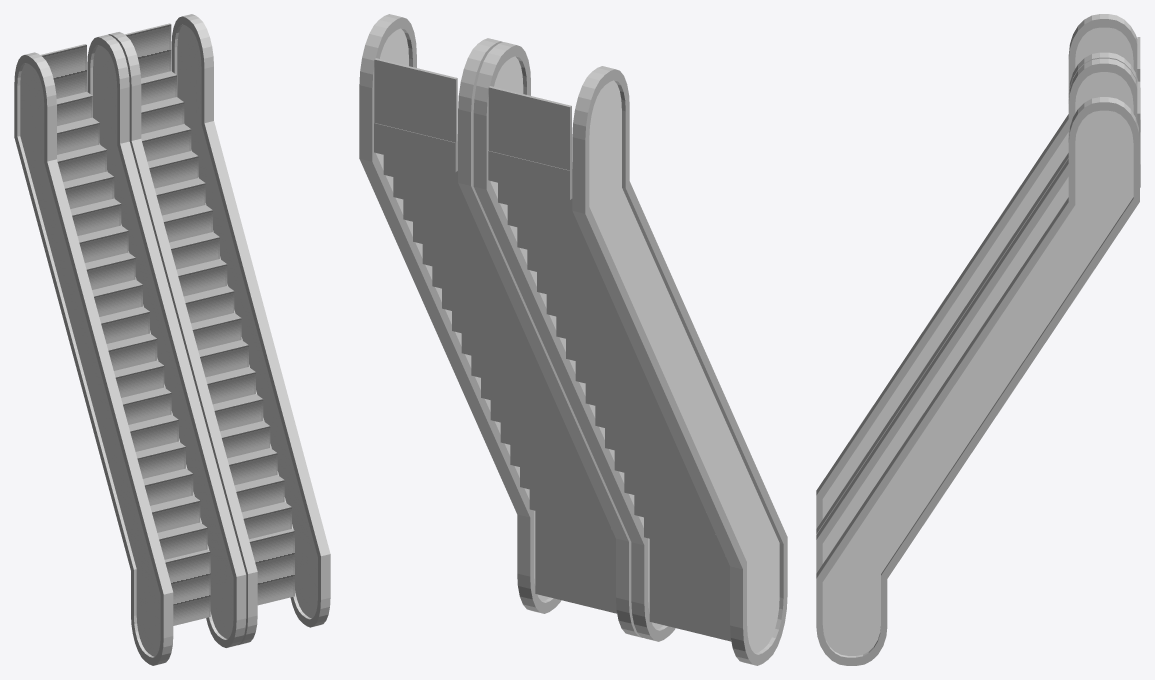
3 views of the same model, side by side, from view 1: azimuth 30°, elevation 25°; view 2: azimuth 150°, elevation 25°; view 3: azimuth 270°, elevation 25° (orthographic). The views are drawn at different scales.
Parts seen in each view (by area): view 1: Cube.001, Cube.009, Cube.006, Cube.005, Cube.004, Cube.002; view 2: Cube.009, Cube.001, Cube.006, Cube.005, Cube.004, Cube.002; view 3: Cube.004, Cube.006, Cube.002, Cube.005.
Boxes of the visible parts, bbox=[...] form: Cube.001: bbox=[125, 23, 294, 605]; Cube.009: bbox=[40, 44, 210, 625]; Cube.006: bbox=[14, 52, 173, 665]; Cube.005: bbox=[87, 34, 246, 647]; Cube.004: bbox=[171, 14, 330, 627]; Cube.002: bbox=[108, 32, 257, 645]; Cube.009: bbox=[488, 86, 731, 641]; Cube.001: bbox=[374, 58, 616, 613]; Cube.006: bbox=[572, 66, 787, 665]; Cube.005: bbox=[473, 42, 675, 641]; Cube.004: bbox=[359, 14, 561, 613]; Cube.002: bbox=[458, 38, 642, 637]; Cube.004: bbox=[816, 97, 1139, 665]; Cube.006: bbox=[816, 14, 1137, 528]; Cube.002: bbox=[816, 58, 1137, 573]; Cube.005: bbox=[816, 52, 1138, 534].
Size of the model in its own units: 1.14 by 3.4 by 1.77.
6 materials, 1 textured.
